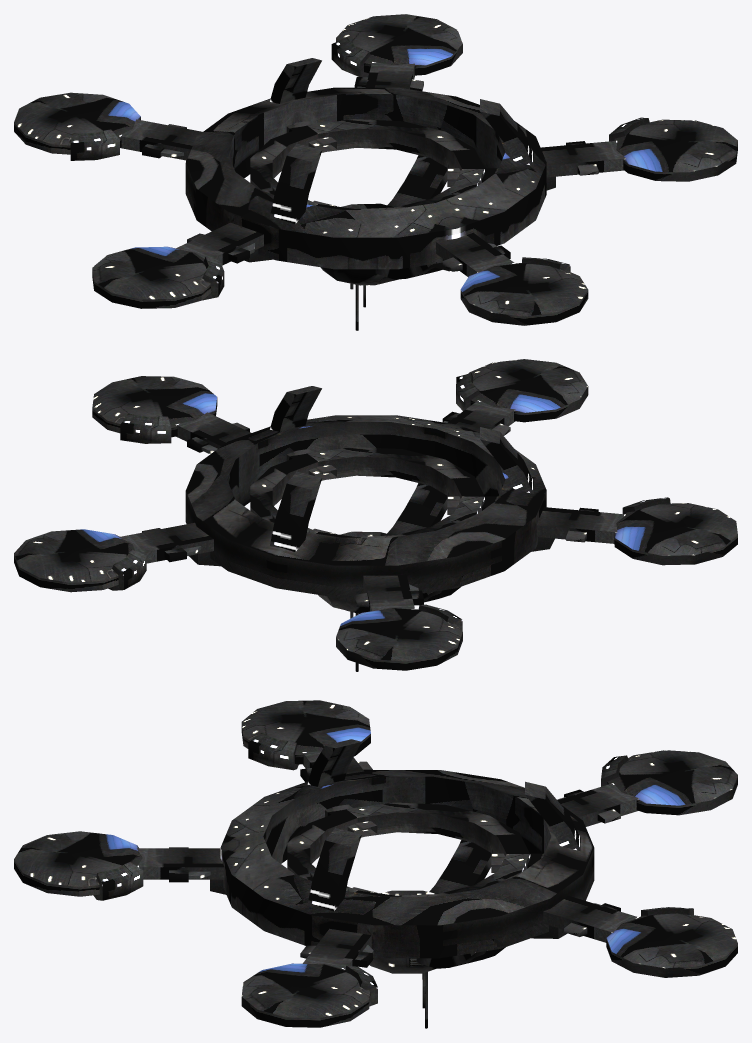
The model's file is spacestation01_outer.fbx.
The picture shows the model from 3 angles, top to bottom: view 1: azimuth 30°, elevation 25°; view 2: azimuth 150°, elevation 25°; view 3: azimuth 270°, elevation 25°; orthographic projection. The views are drawn at different scales.
Parts seen in each view (by area): view 1: PipelineFBX; view 2: PipelineFBX; view 3: PipelineFBX.
Boxes of the visible parts, x1,y1,x2,y2 form: PipelineFBX: (14,14,737,330); PipelineFBX: (14,359,737,671); PipelineFBX: (14,700,737,1028).
Size of the model in its own units: 792 by 279 by 762.
Materials: 1 (1 with a texture image).
